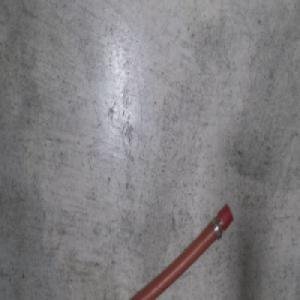Hose: (116, 201, 234, 300)
